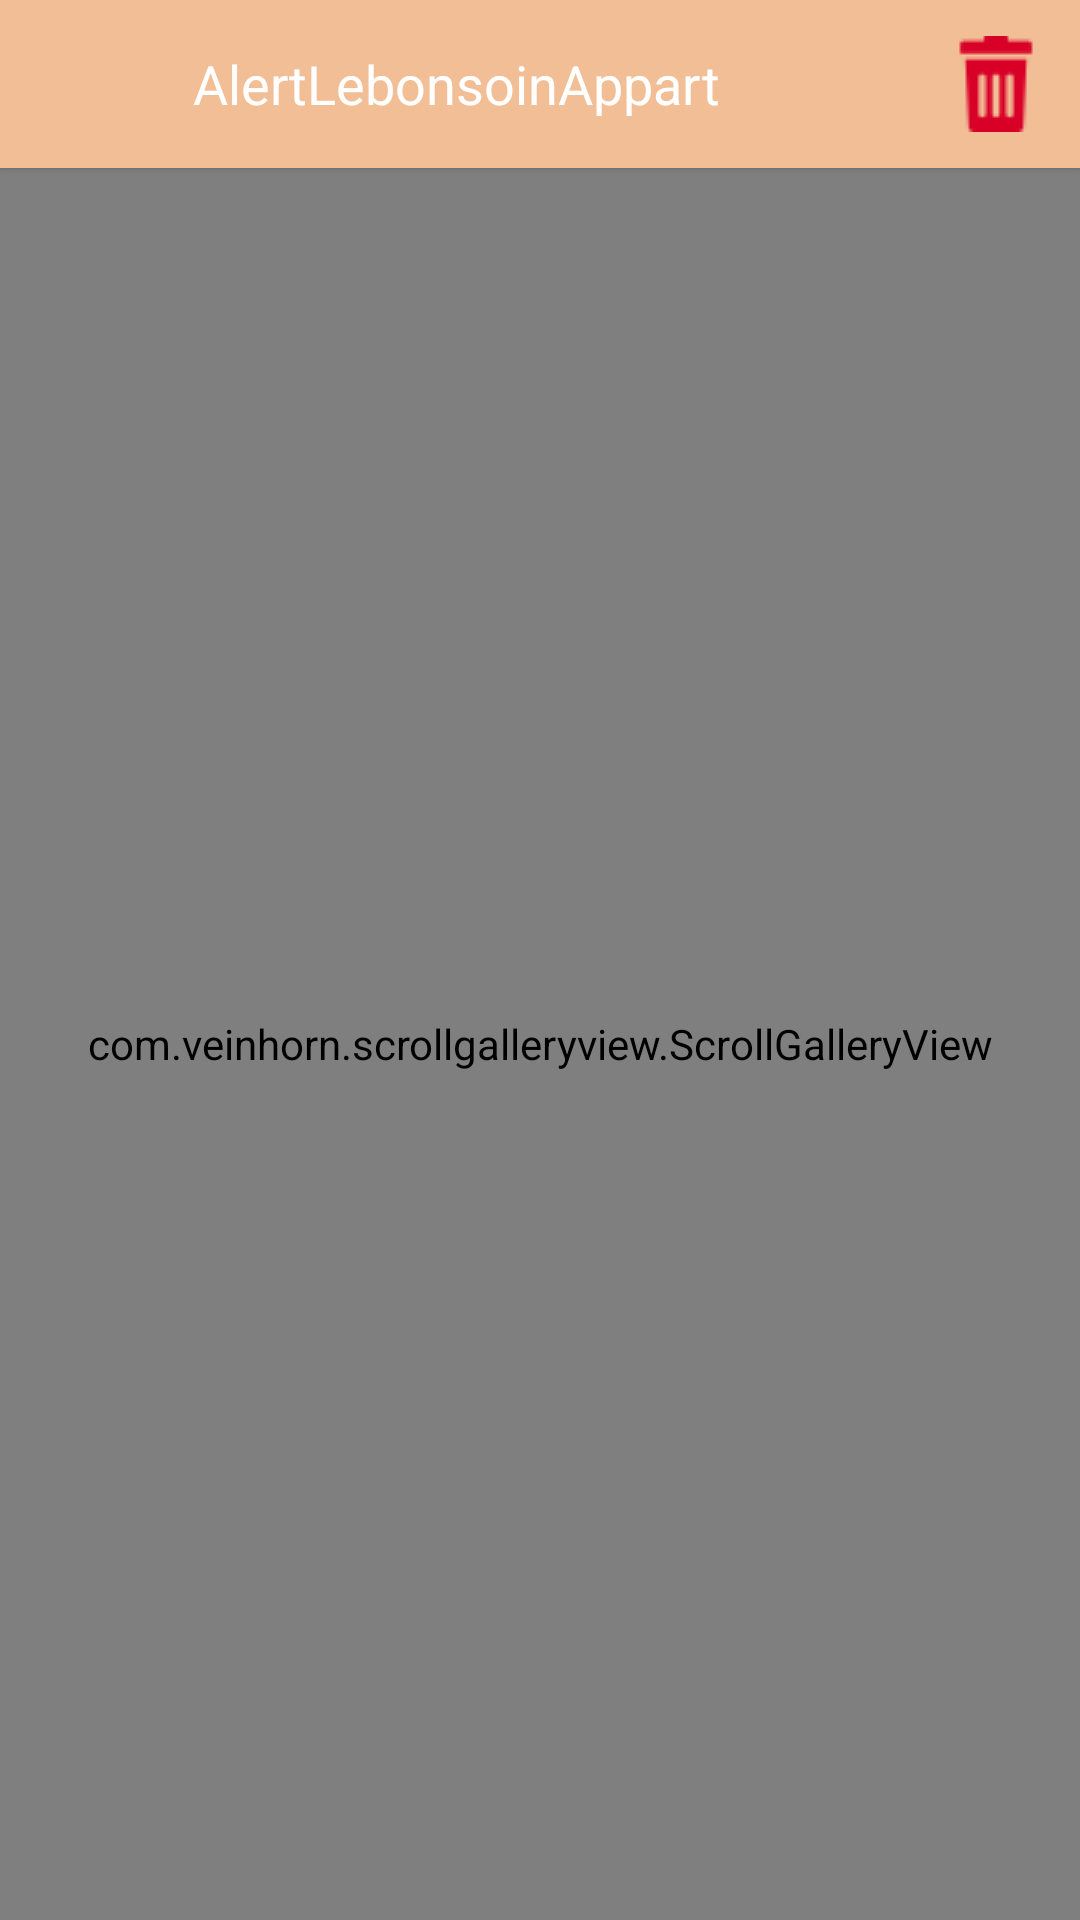

Where icons sit on this 1080 × 1920 app screen, as (x1, y1, x2, y2):
delete: (959, 36, 1033, 132)
